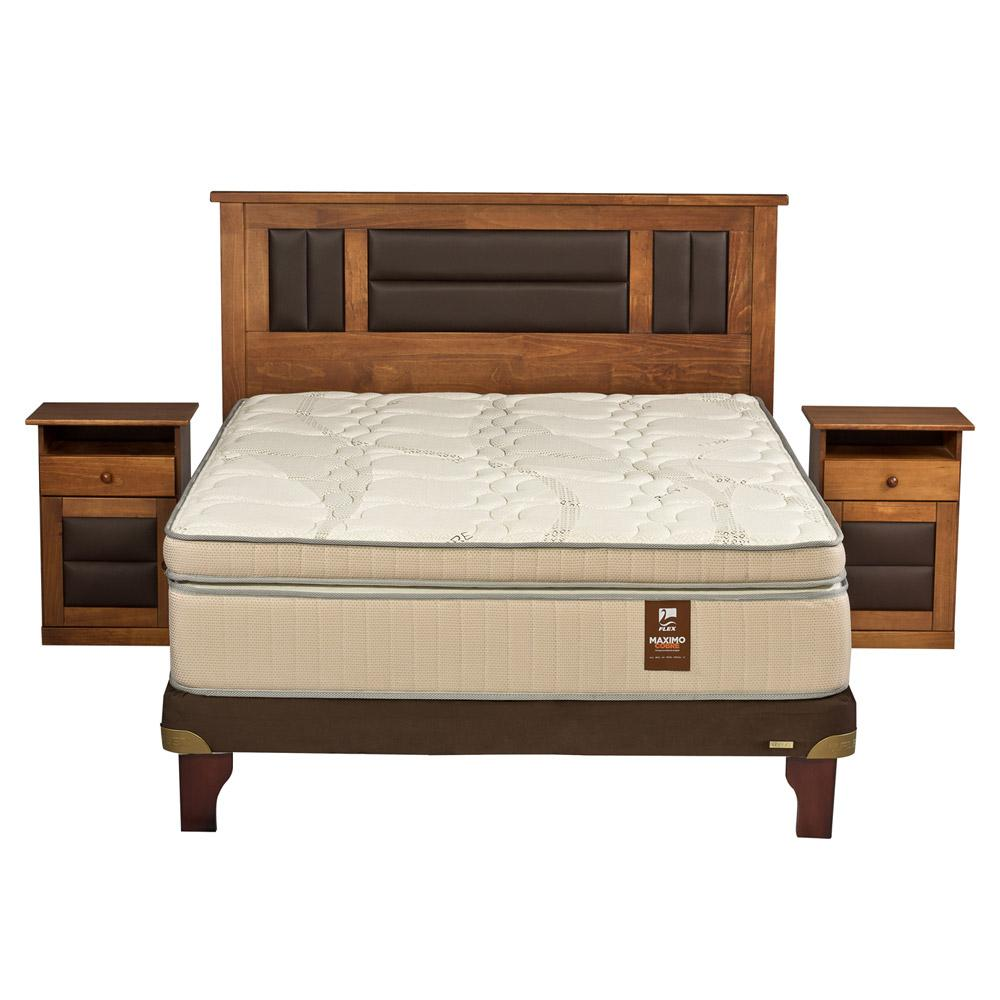bed: (190, 200, 818, 822)
